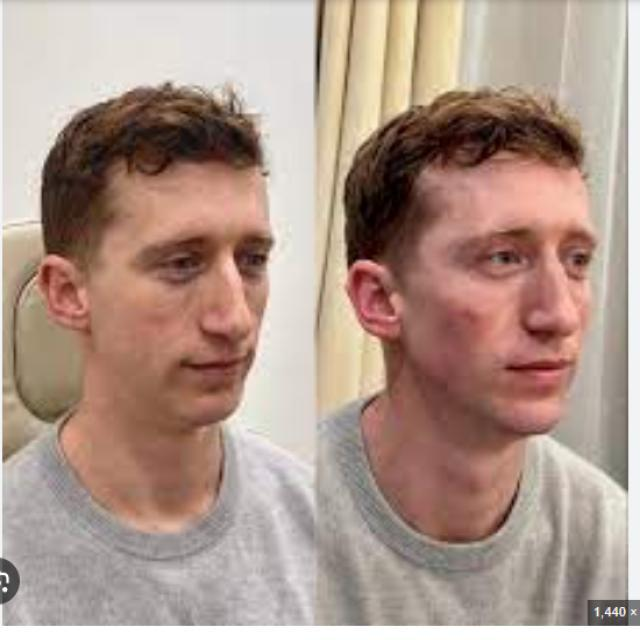face_no_mask: (346, 179, 603, 443), (44, 157, 272, 430)
